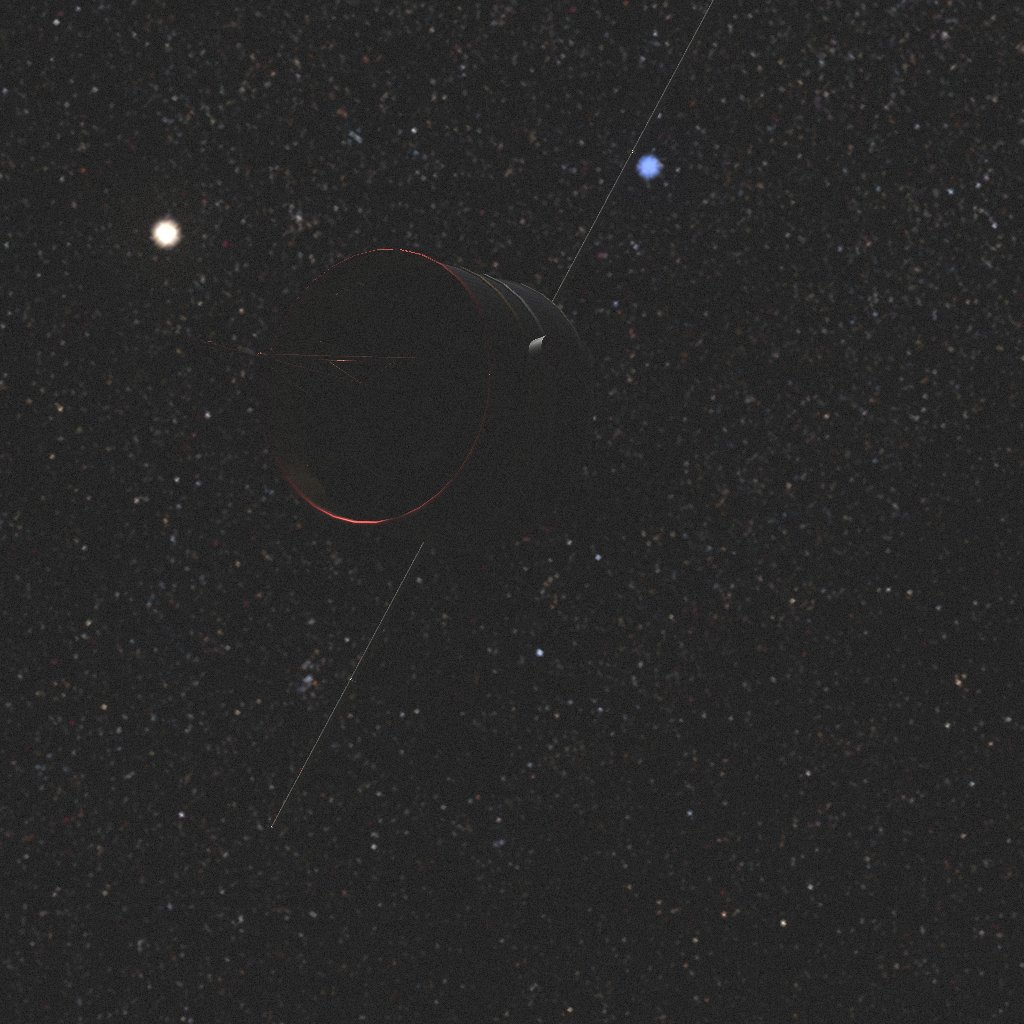double_star: (198, 0, 720, 830)
